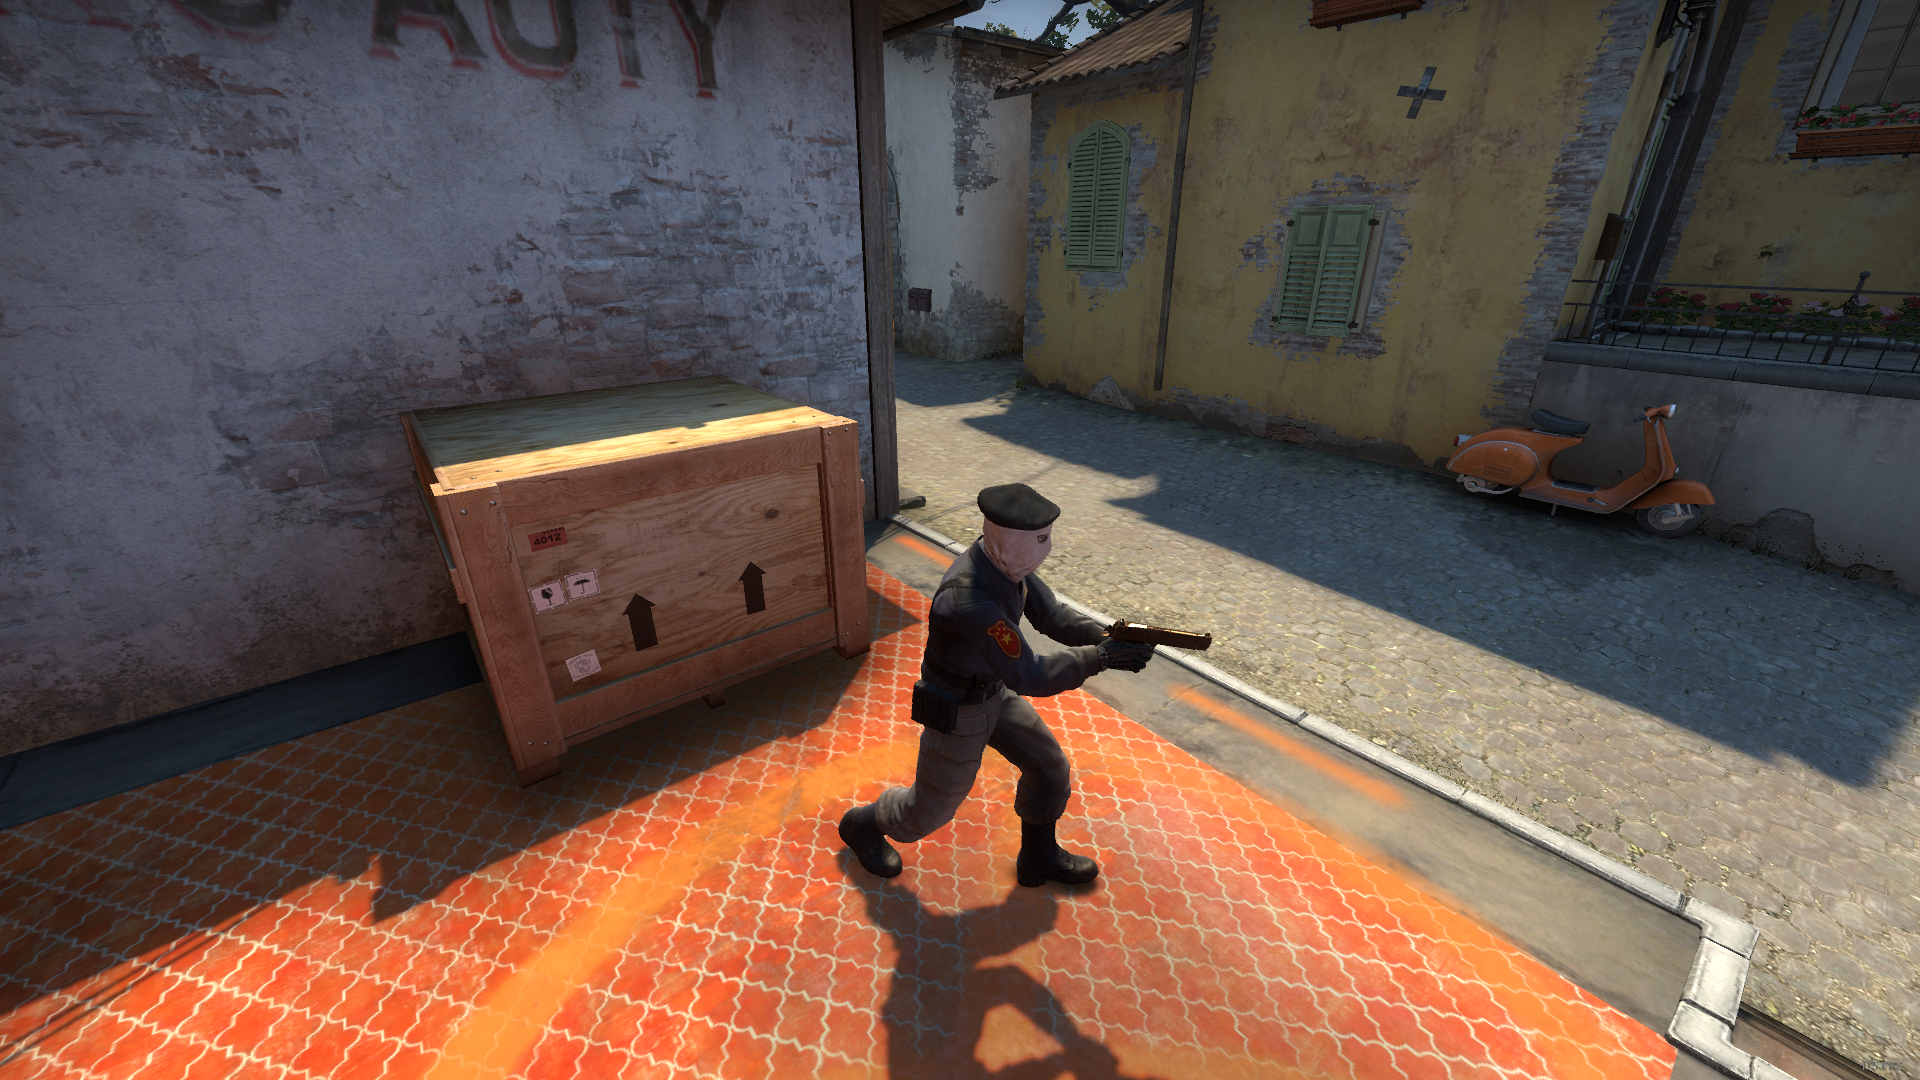t: (833, 479, 1164, 922)
